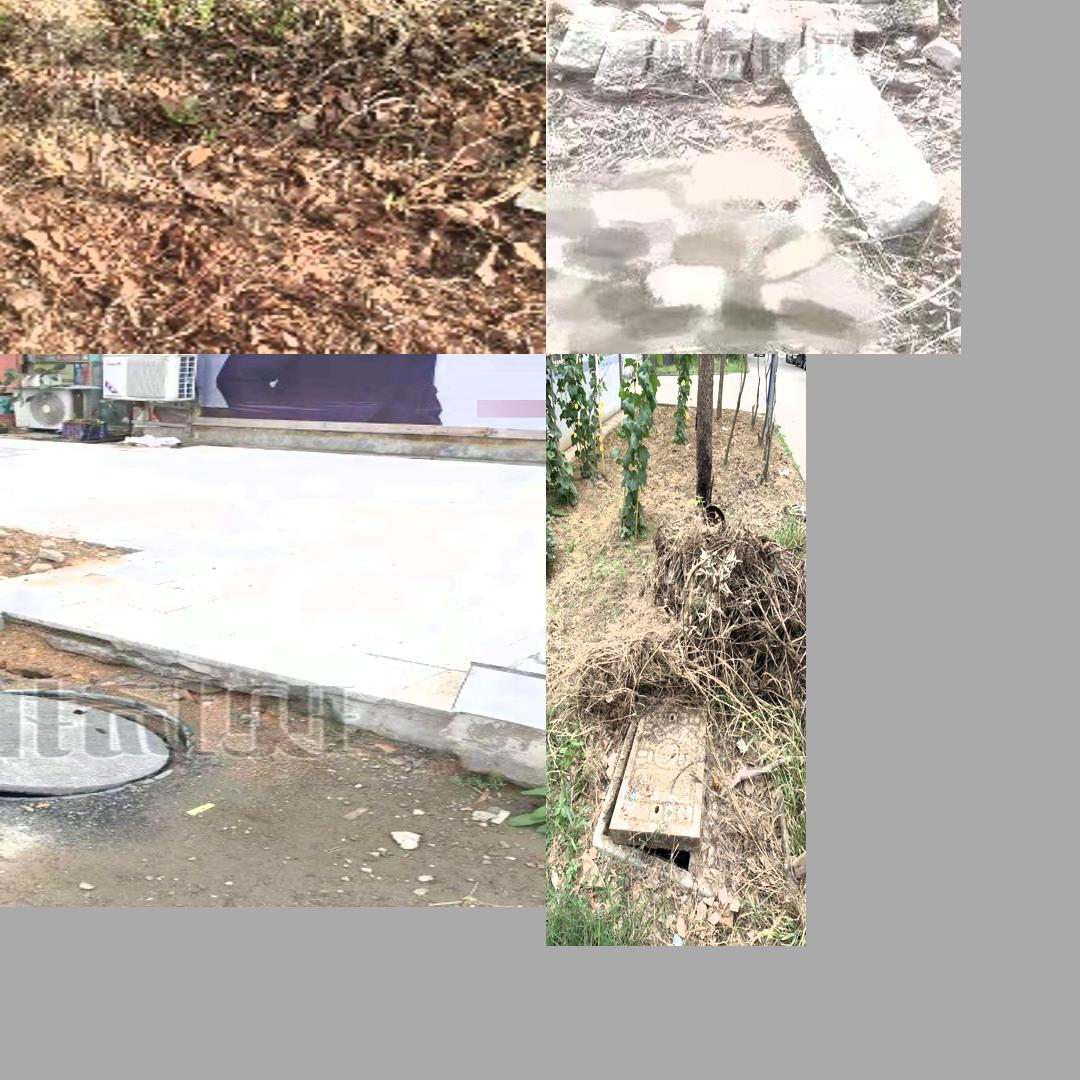uncovered: (598, 675, 736, 890), (0, 686, 194, 800)
